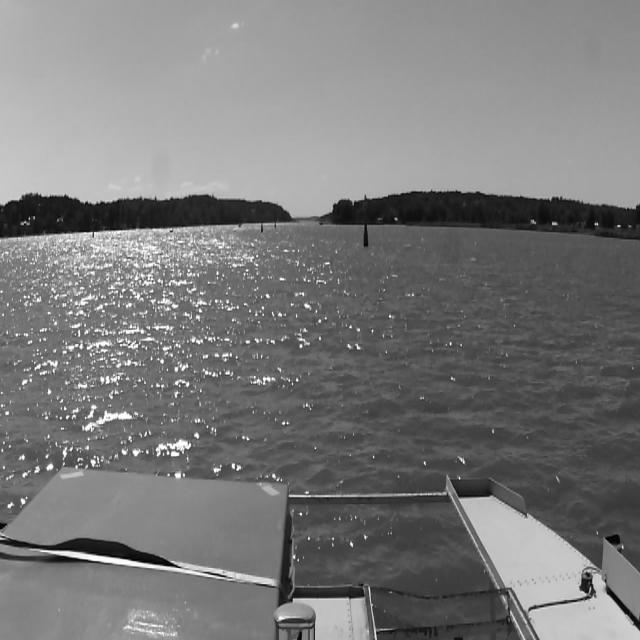buoy: (89, 221, 95, 239), (364, 222, 368, 246), (274, 213, 276, 227), (261, 224, 263, 232)
ship: (237, 218, 243, 228)
